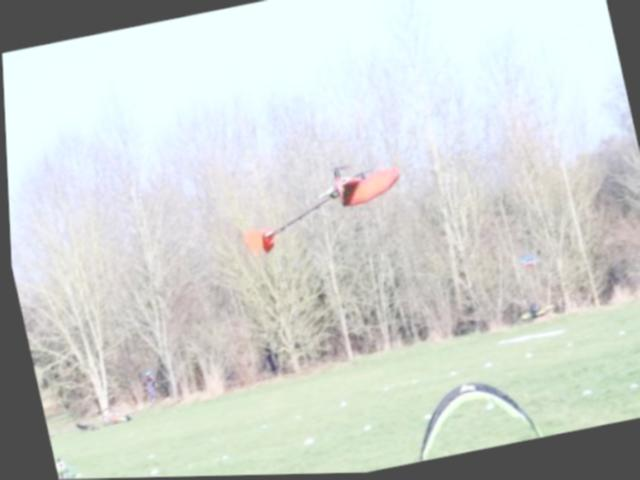uav: (218, 147, 418, 273)
